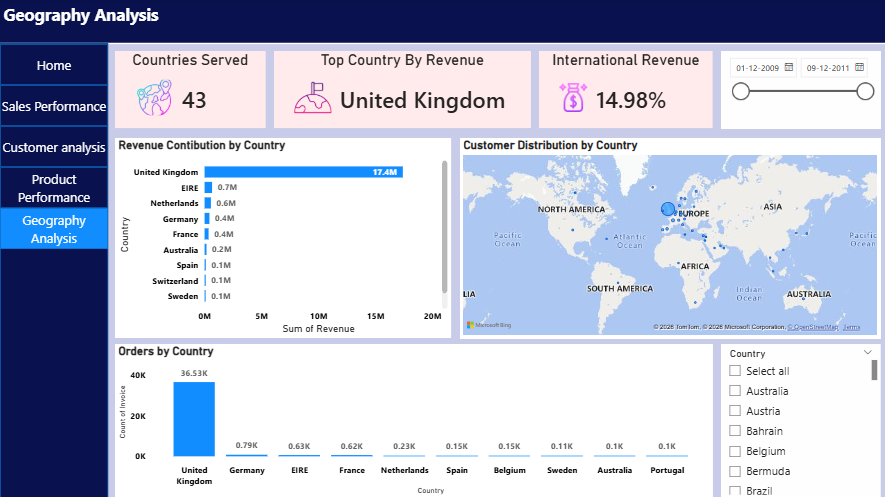

Layout of this report page (visuals, bound fields, positions):
{"tool":"powerbi","page":{"name":"Geography Analysis","canvas":[1280,720],"ordinal":4},"visuals":[{"type":"textbox","box":[0,0,1280.2,64.8],"z":0},{"type":"textbox","box":[0,0,1280.2,63.4],"z":1000},{"type":"shape","box":[0,63.9,155.7,655.7],"z":2000},{"type":"cardVisual","title":"Countries Served","fields":{"Data":["Count(ecommerce_sales_cleaned.Country)"]},"box":[166.3,75.6,216.7,110.9],"z":3000},{"type":"cardVisual","title":"Top Country By Revenue","fields":{"Data":["ecommerce_sales_cleaned.Top Countries by Revenue"]},"box":[394.8,75.6,369.6,110.9],"z":4000},{"type":"cardVisual","title":"International Revenue","fields":{"Data":["ecommerce_sales_cleaned.International Revenue%"]},"box":[776.1,75.6,250.3,110.9],"z":5000},{"type":"clusteredBarChart","title":" Revenue Contibution by Country","fields":{"Category":["ecommerce_sales_cleaned.Country"],"Y":["Sum(ecommerce_sales_cleaned.Revenue)"]},"box":[165.6,200.2,483.8,288],"z":6000},{"type":"clusteredColumnChart","title":"Orders by Country","fields":{"Category":["ecommerce_sales_cleaned.Country"],"Y":["Count(ecommerce_sales_cleaned.Invoice)"]},"box":[165.6,496.8,861.1,221.8],"z":7000},{"type":"map","title":"Customer Distribution by Country","fields":{"Category":["ecommerce_sales_cleaned.Country"],"Size":["Count(ecommerce_sales_cleaned.Customer ID)"]},"box":[661.8,199.9,606.4,288.9],"z":8000},{"type":"slicer","fields":{"Values":["ecommerce_sales_cleaned.Country"]},"box":[1038.2,496.8,230.4,221.8],"z":9000},{"type":"slicer","title":"Data Range","fields":{"Values":["ecommerce_sales_cleaned.InvoiceDate"]},"box":[1038.2,74.9,229,110.9],"z":10000},{"type":"shape","box":[0,64.8,155.5,59],"z":11000},{"type":"shape","box":[0,123.8,155.5,59],"z":12000},{"type":"shape","box":[0,182.9,155.5,59],"z":13000},{"type":"shape","box":[0,241.9,155.5,59],"z":14000},{"type":"shape","box":[0,301,155.5,59],"z":15000}]}

Visuals, with their boxes on the page's 1280x720 design canvas (x1, y1, x2, y2). These are canvas units, not pixel positions in the 885x497 screenshot, which may show the page scaled, cropped or inside an application window:
textbox: select_region(0, 0, 1280, 65)
textbox: select_region(0, 0, 1280, 63)
shape: select_region(0, 64, 156, 720)
"Countries Served" cardVisual: select_region(166, 76, 383, 186)
"Top Country By Revenue" cardVisual: select_region(395, 76, 764, 186)
"International Revenue" cardVisual: select_region(776, 76, 1026, 186)
" Revenue Contibution by Country" clusteredBarChart: select_region(166, 200, 649, 488)
"Orders by Country" clusteredColumnChart: select_region(166, 497, 1027, 719)
"Customer Distribution by Country" map: select_region(662, 200, 1268, 489)
slicer - ecommerce_sales_cleaned.Country: select_region(1038, 497, 1269, 719)
"Data Range" slicer: select_region(1038, 75, 1267, 186)
shape: select_region(0, 65, 156, 124)
shape: select_region(0, 124, 156, 183)
shape: select_region(0, 183, 156, 242)
shape: select_region(0, 242, 156, 301)
shape: select_region(0, 301, 156, 360)
